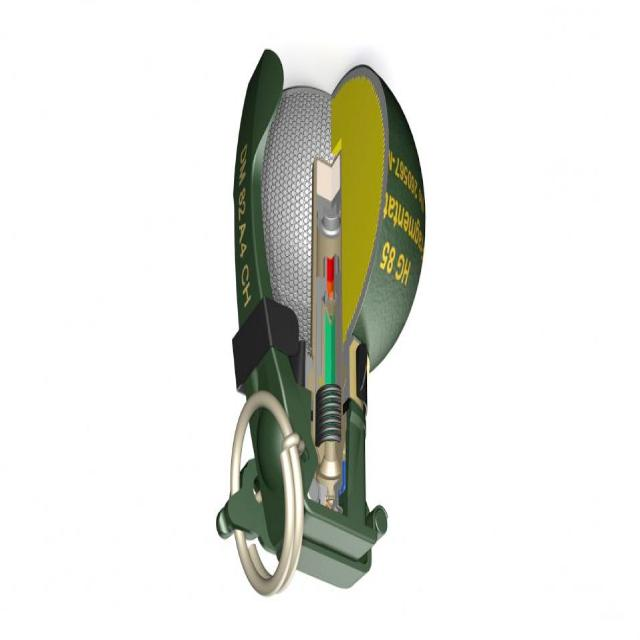grenade: (216, 49, 427, 598)
